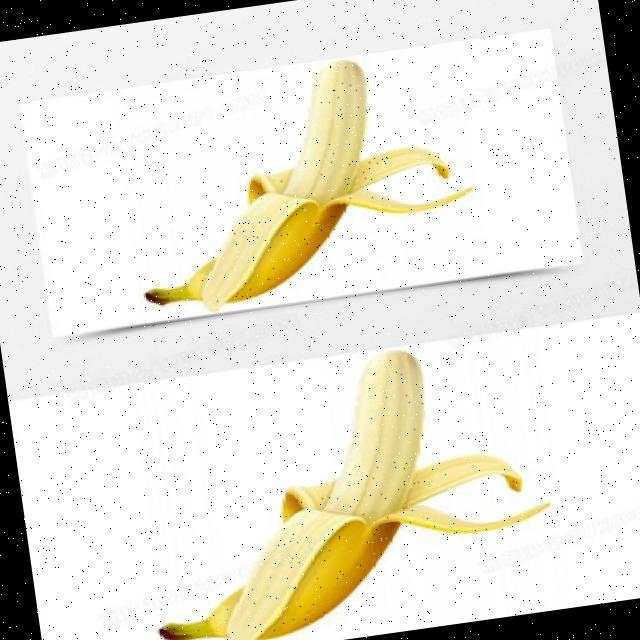banana-peel: (123, 329, 564, 640), (115, 43, 485, 321)
